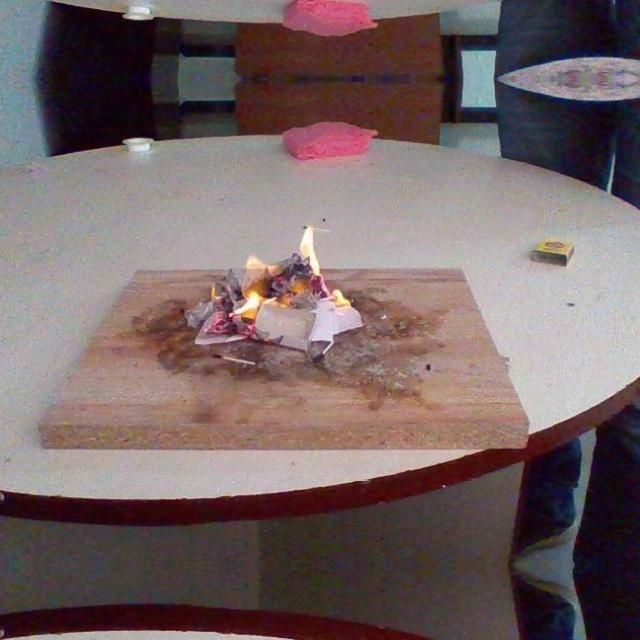smoke: (297, 225, 353, 308), (227, 254, 279, 317)
